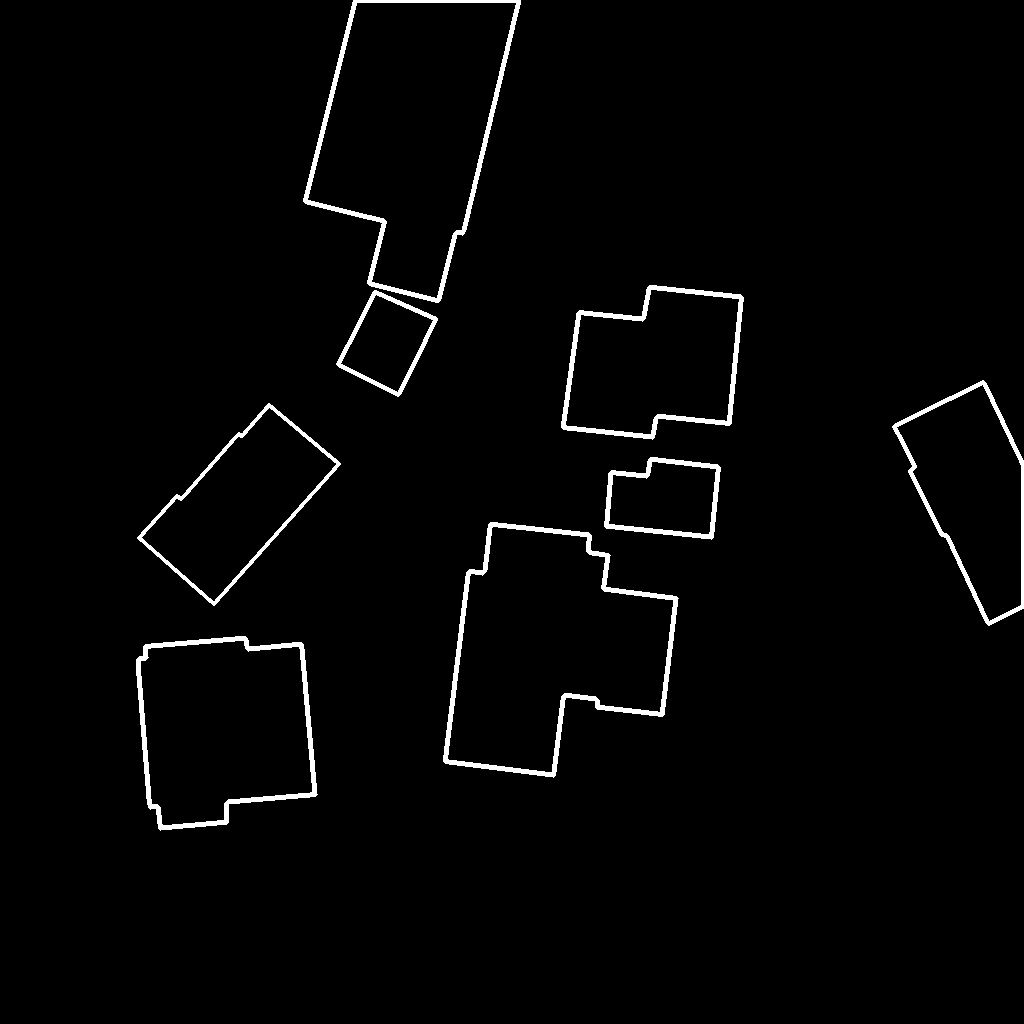building: (305, 0, 520, 302), (445, 524, 677, 776), (139, 405, 340, 605), (138, 638, 316, 829), (894, 382, 1024, 625), (563, 287, 743, 438), (338, 292, 437, 396), (606, 459, 720, 538)
